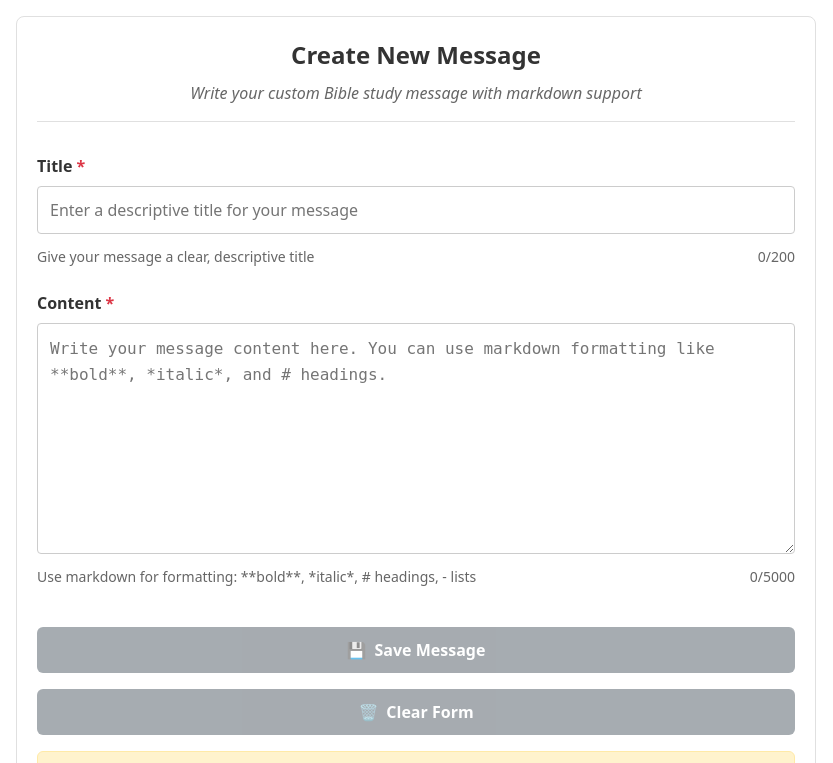
Test case: MessageEditor Component › Form Submission › shows success message when save succeeds
Type "Test Title" into the field labelled "Title *" at [416, 210], box [37,186,795,234]
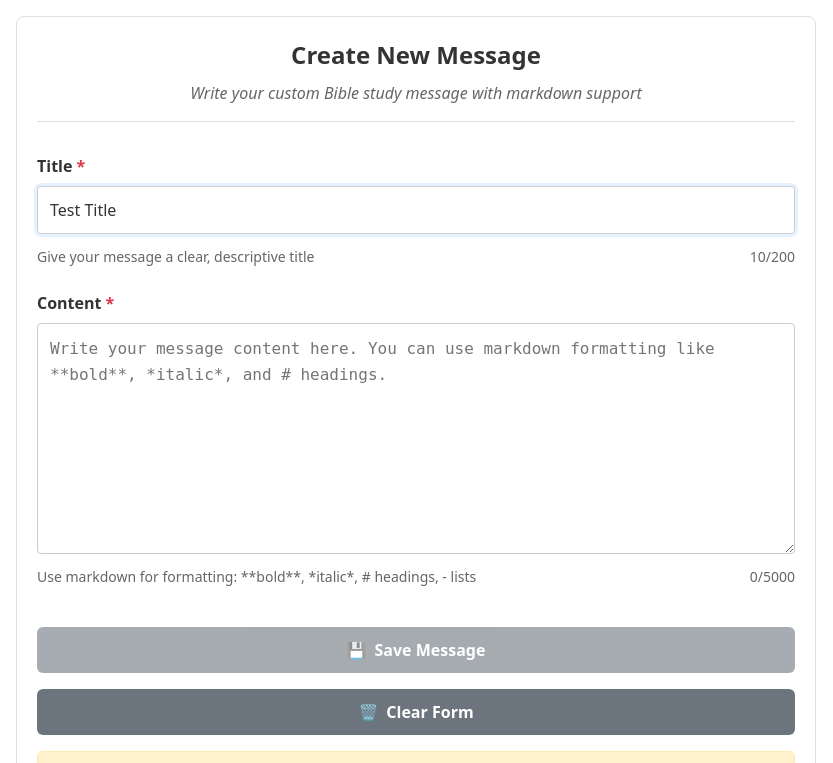
Type "Test content" into the text box labelled "Content *" at [416, 438], box [37,323,795,554]
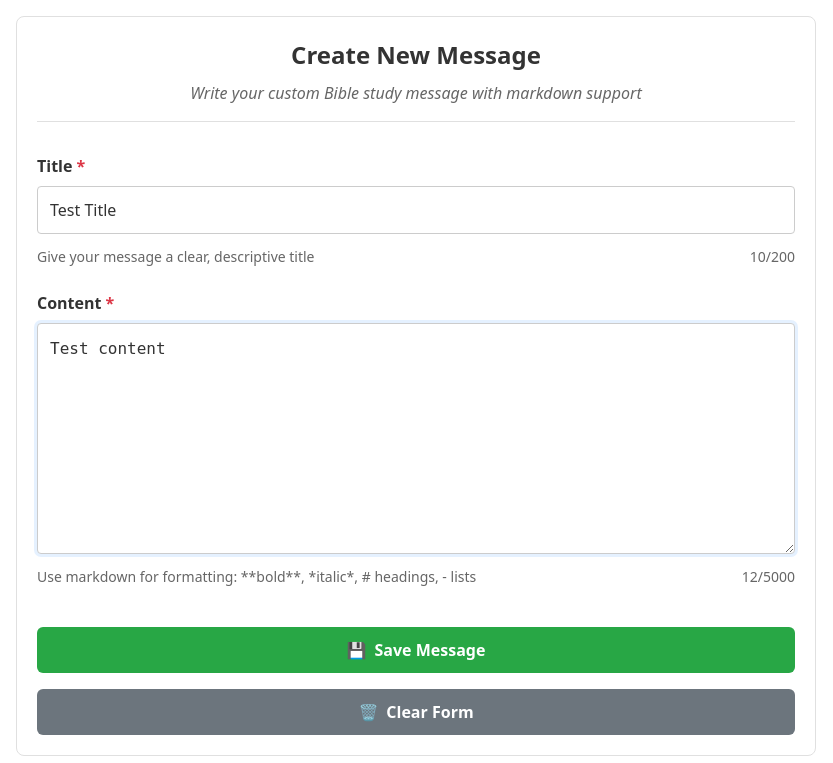
Click the button "💾 Save Message" at [416, 650], box [37,627,795,673]
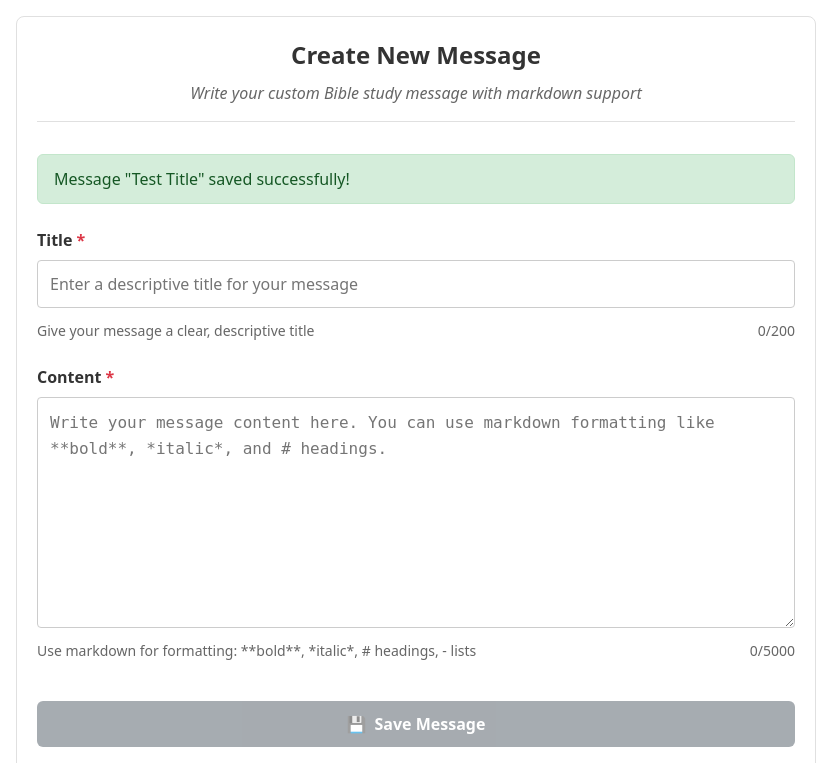
Check: the text "Message \"Test Title\" saved successfully!" is shown, box [37,154,795,204]
